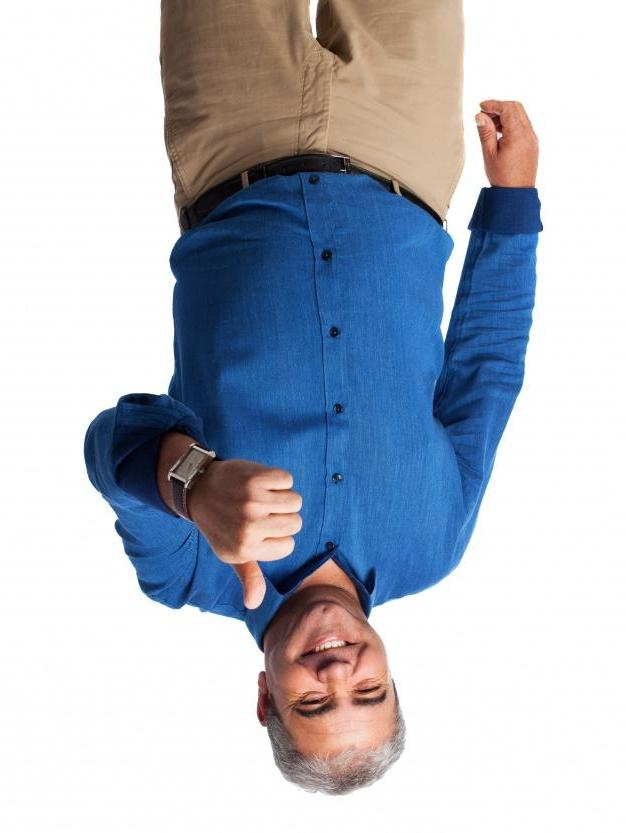thumbsdown: (231, 465, 303, 611)
